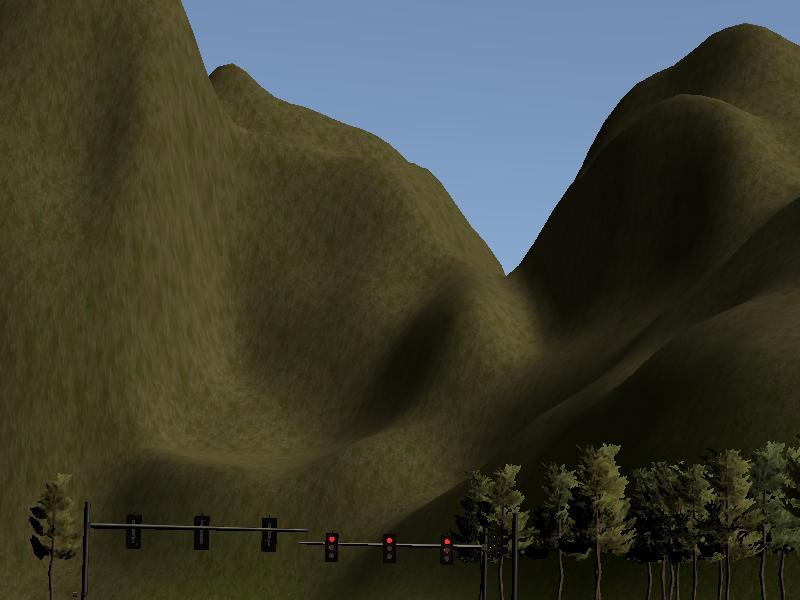red_light: (326, 532, 338, 561), (384, 533, 396, 559), (441, 537, 452, 562)
